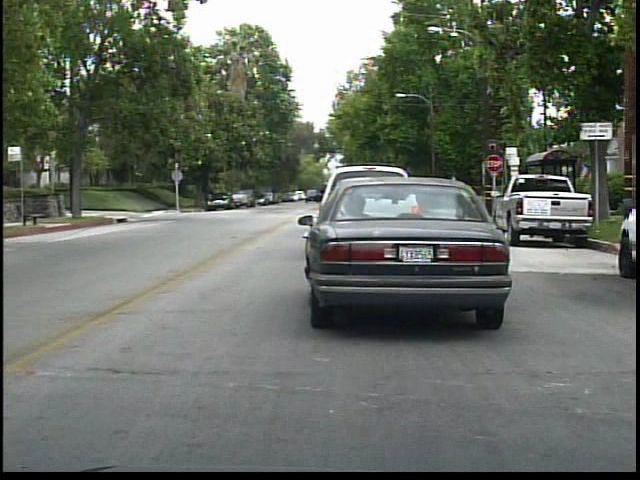person: (221, 181, 236, 207)
